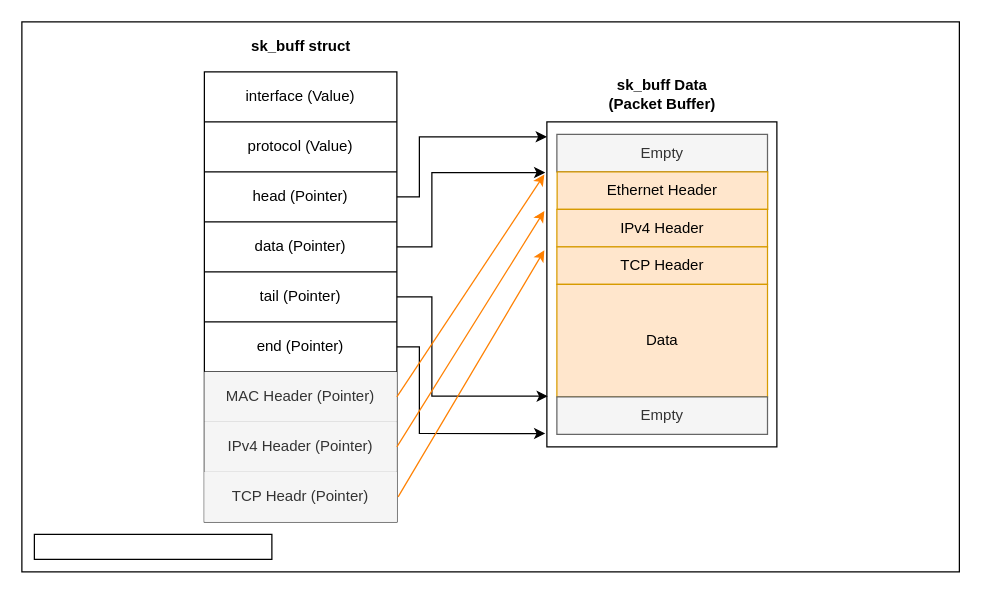
Image size: 981x594. Some labels were removed from this diagram. The shapes that lost their labels are listed below. From the top down, each one's box as (x1, y1, x2, y2) in pixels, then its label:
(546, 121, 777, 447): Memory (RAM)
(33, 533, 272, 559): Socket Buffer Components
